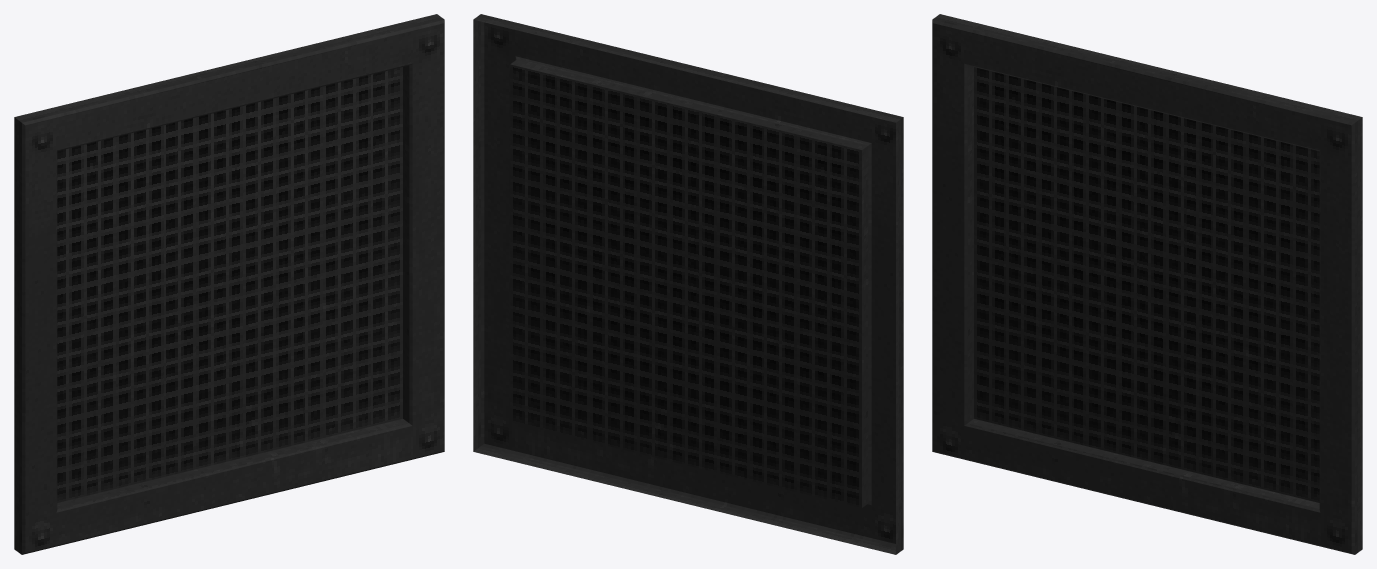
Rendered from vent_3.glb.
3 renders of one model, left to right at view 1: azimuth 30°, elevation 25°; view 2: azimuth 150°, elevation 25°; view 3: azimuth 330°, elevation 25°, orthographic.
Visible parts, largest first — view 1: vent_3; view 2: vent_3; view 3: vent_3.
Boxes of the visible parts, x1,y1,x2,y2 form: vent_3: (14,14,444,554); vent_3: (473,14,903,554); vent_3: (932,14,1362,554).
Size of the model in its own units: 0.8192 by 0.8 by 0.03.
1 material, 1 textured.
